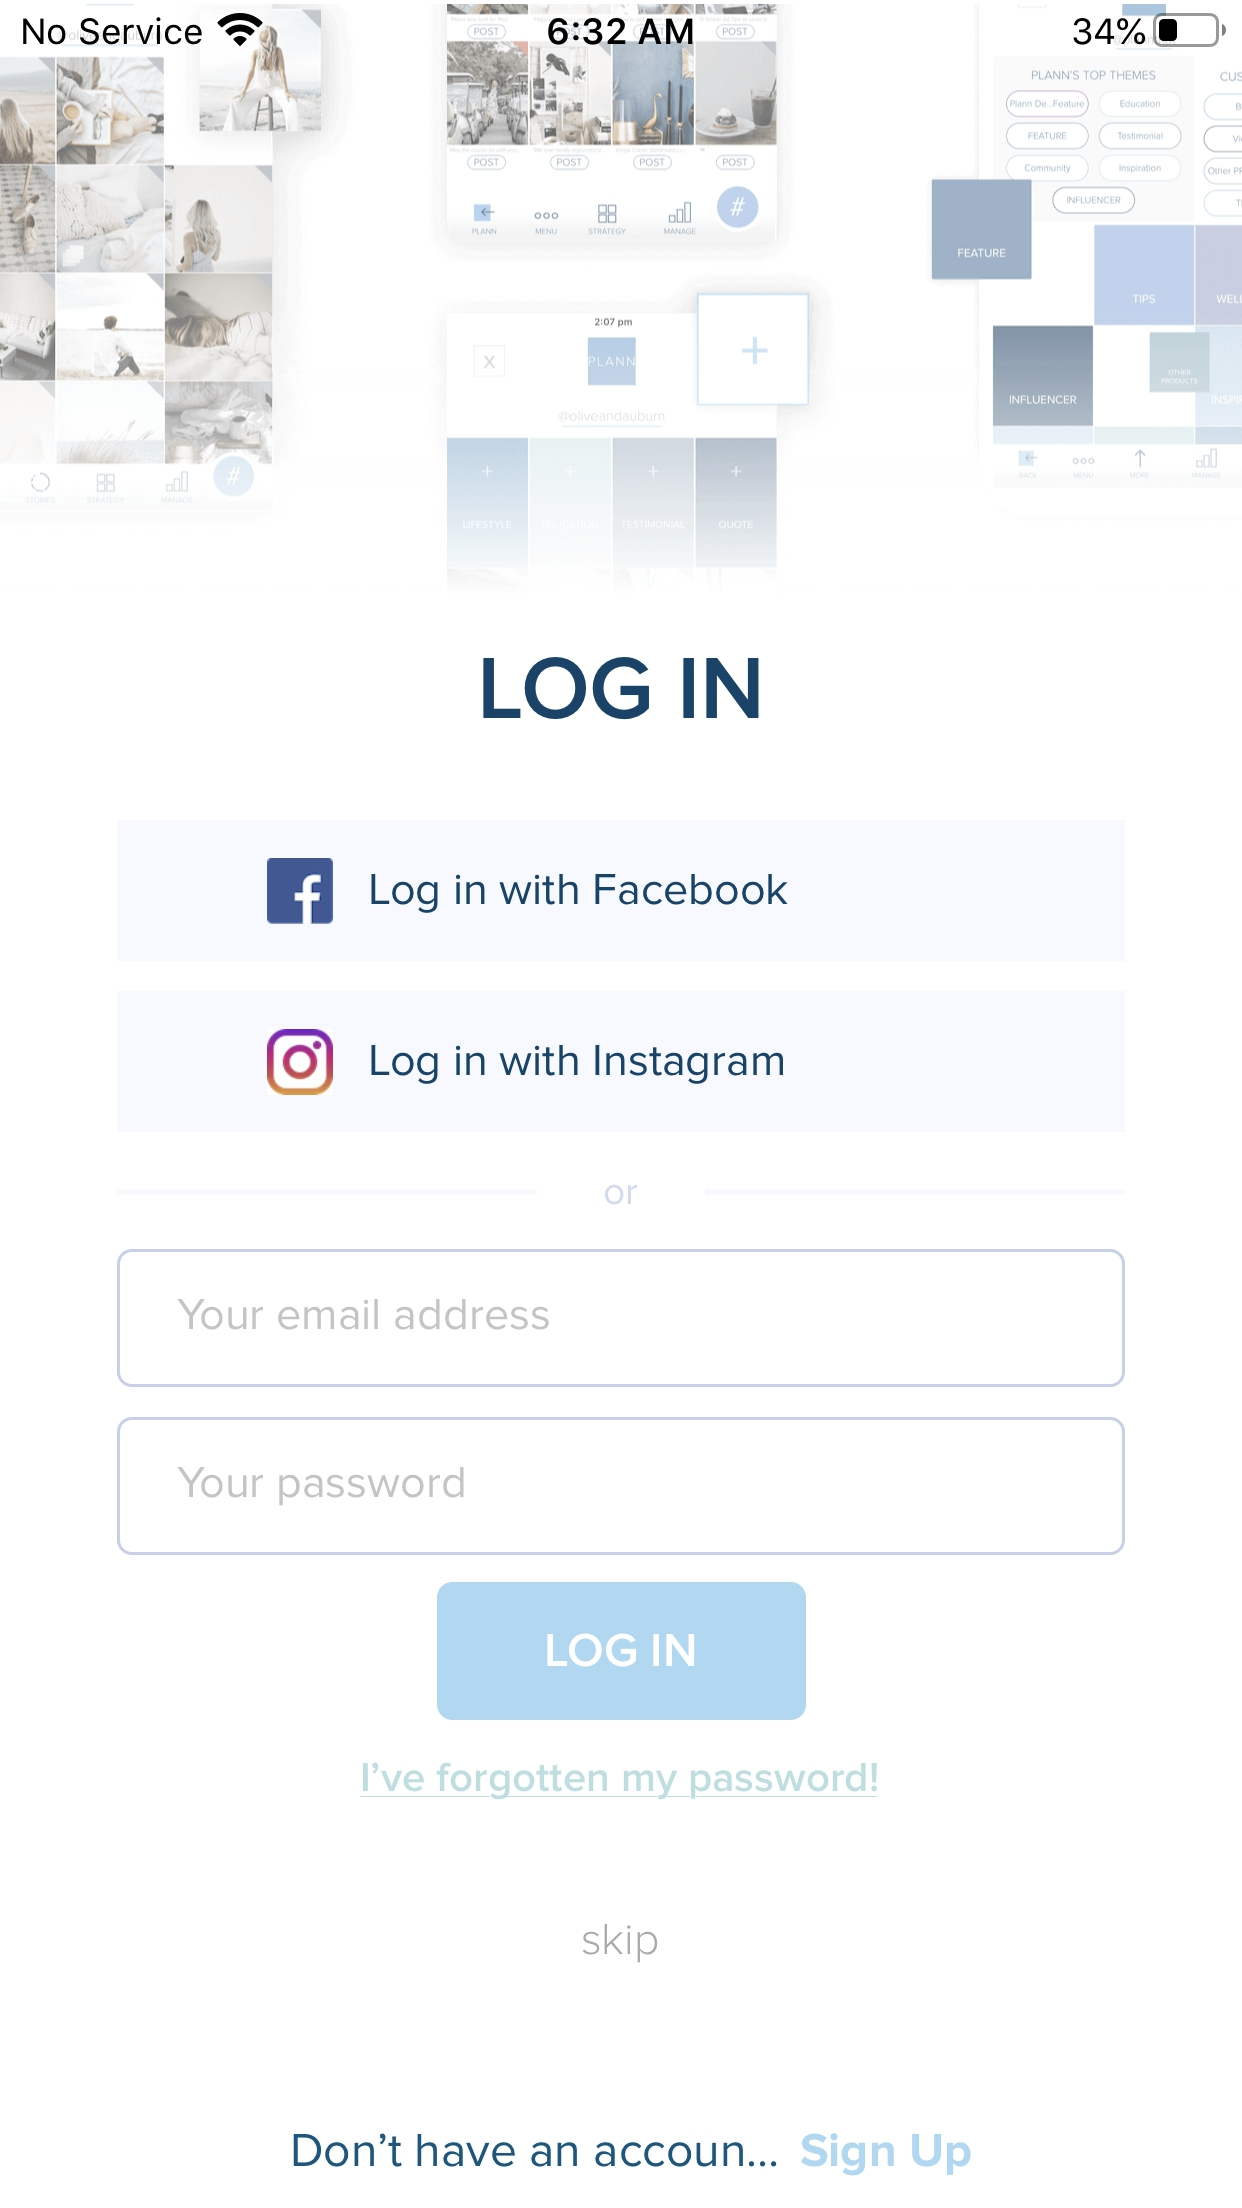EditText: (118, 1416, 1125, 1554), (118, 1250, 1125, 1388)
Image: (2, 2, 1242, 594)
Text: (361, 1762, 877, 1799), (484, 658, 760, 720), (294, 2134, 776, 2167), (177, 1298, 552, 1331), (177, 1466, 467, 1507), (801, 2134, 971, 2175), (584, 1924, 657, 1962), (607, 1184, 638, 1206)
TextButton: (118, 992, 1125, 1133), (118, 820, 1125, 961), (438, 1582, 805, 1720)
UpperTaskBar: (2, 2, 1242, 49)
